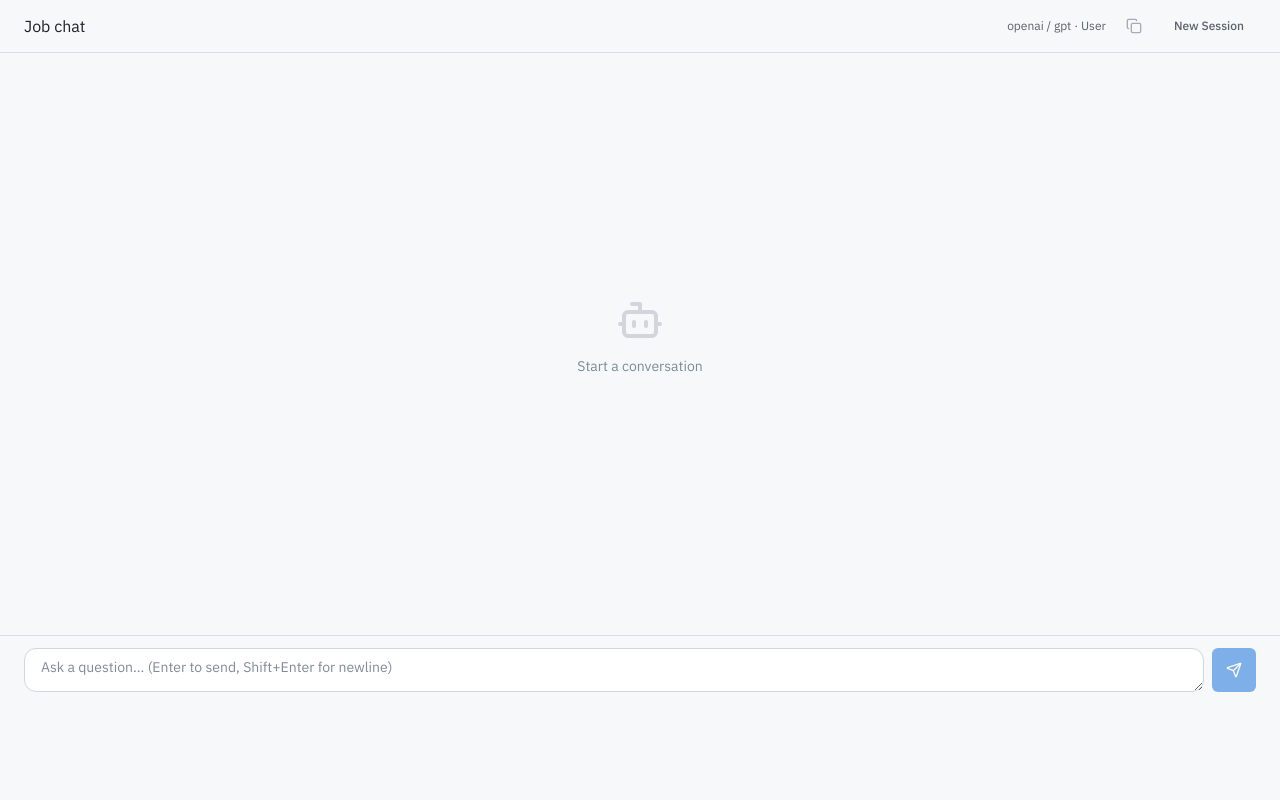
Test: blocks sends while clearing an existing session
The width and height of the screenshot is (1280, 800).
Type "hello" into the text box with placeholder "Ask a question... (Enter to send, Shift+Enter for newline)" at {"x": 614, "y": 670}, box x1=24 y1=648 x2=1204 y2=692
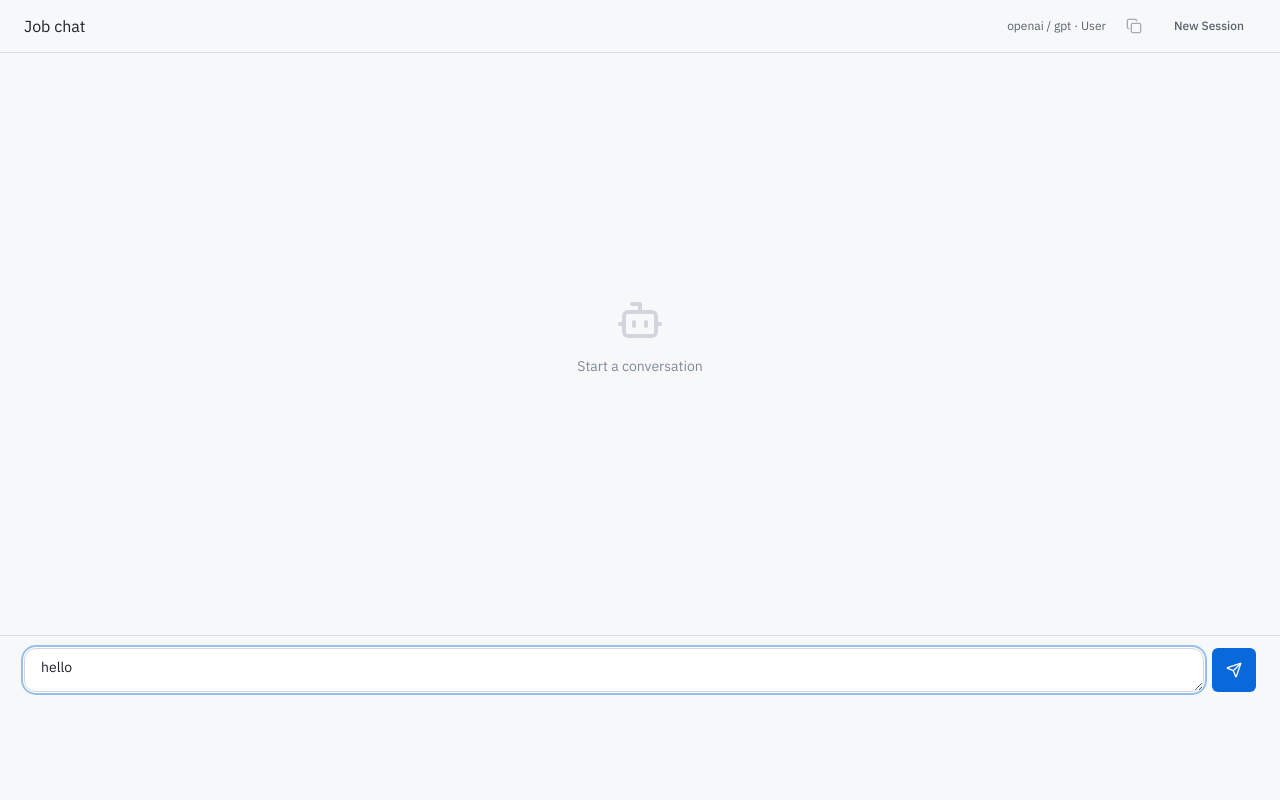
Click the button "New Session" at {"x": 1209, "y": 26}, box x1=1162 y1=12 x2=1256 y2=40
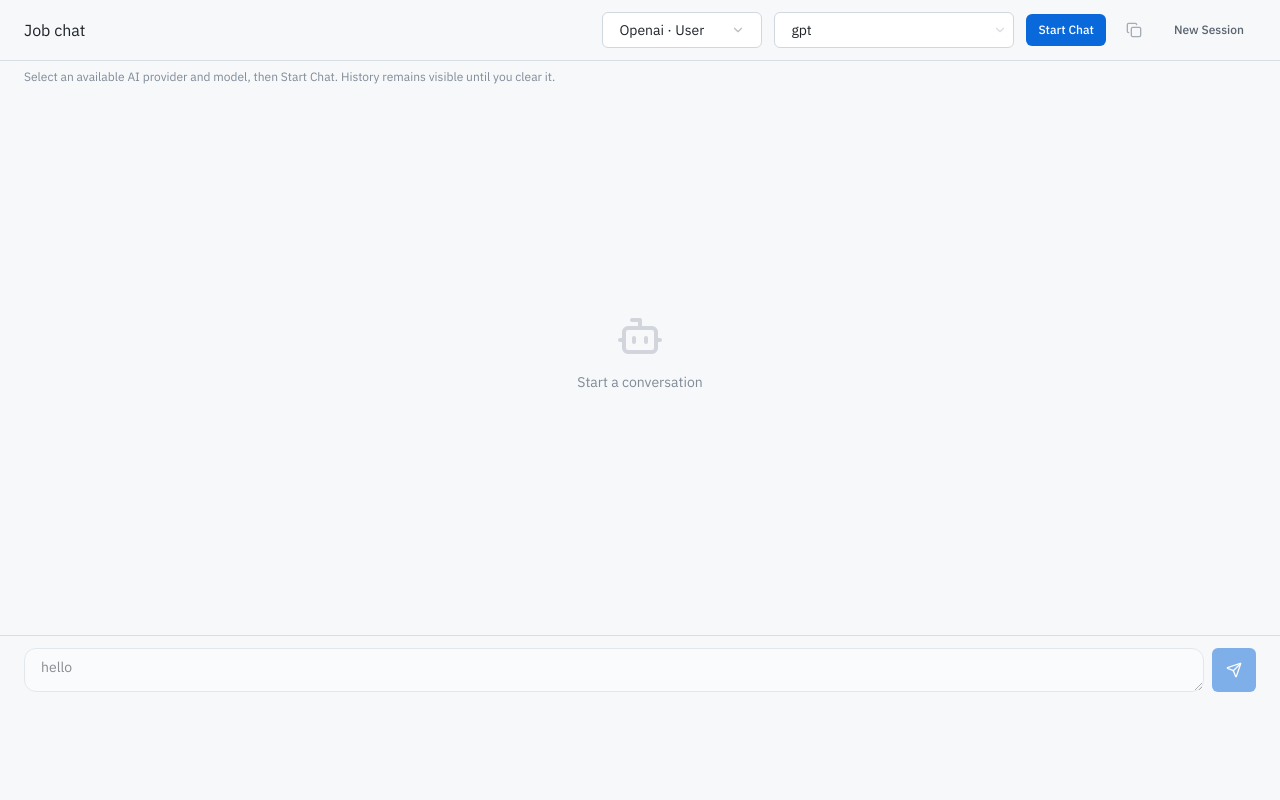
Result: the button named "Clearing chat session" is disabled at x1=1212 y1=648 x2=1256 y2=692
